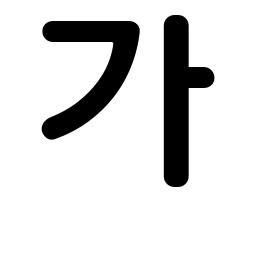Gaji: (151, 54, 206, 108)
